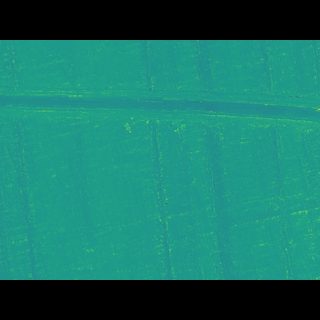Loch: (0, 102, 320, 139)
